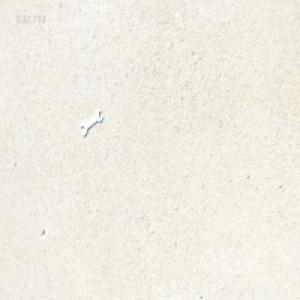Wrench: (80, 109, 103, 138)
